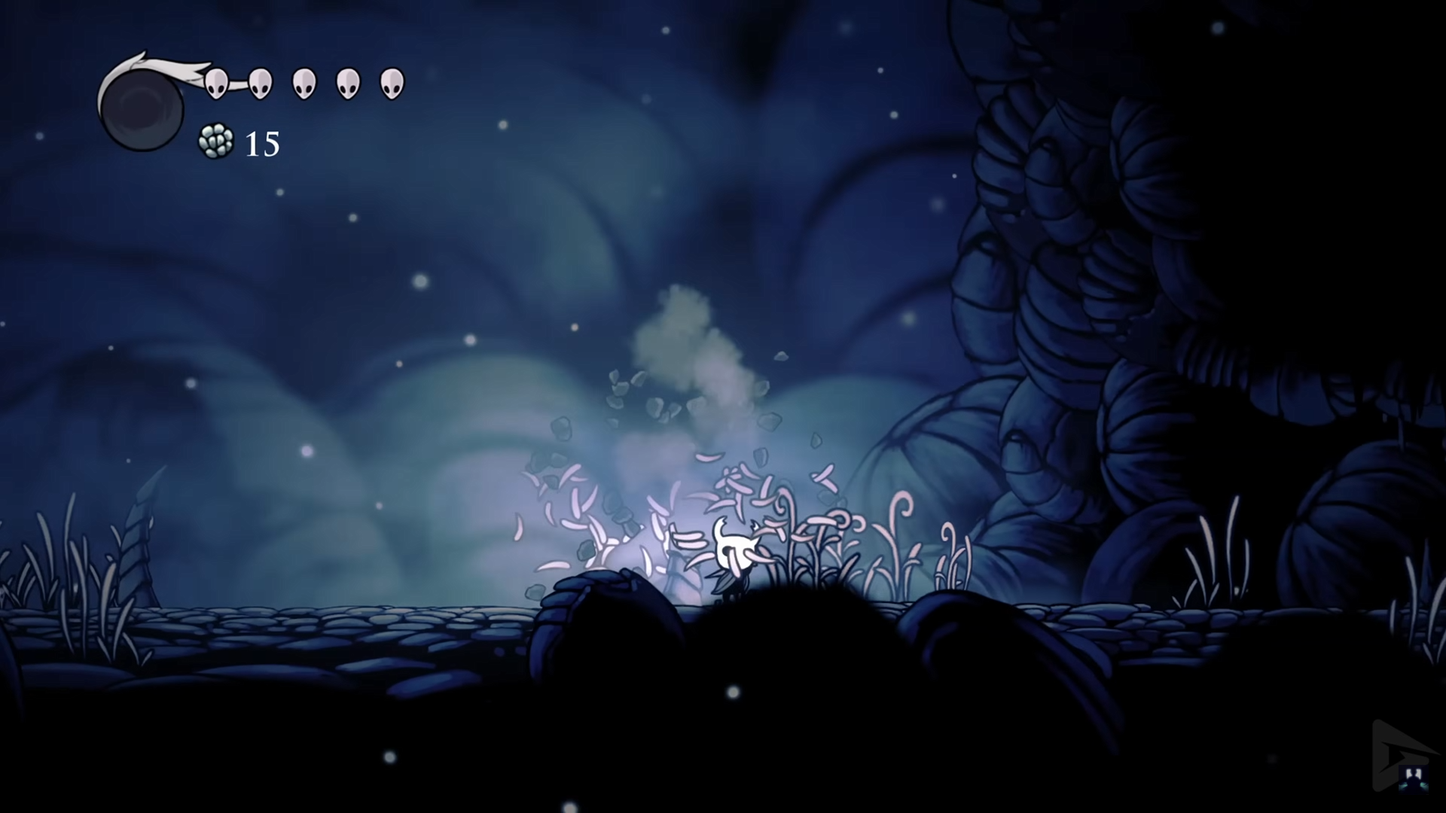HK: (708, 512, 766, 602)
